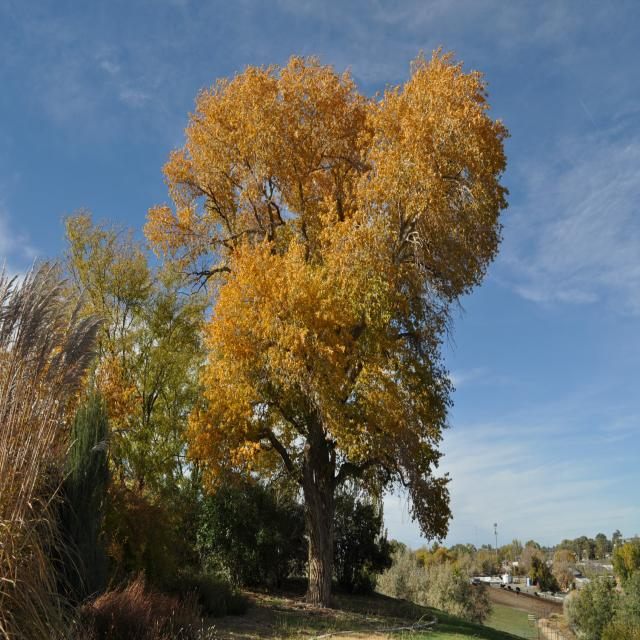Populus angustifolia: (155, 49, 512, 600)
